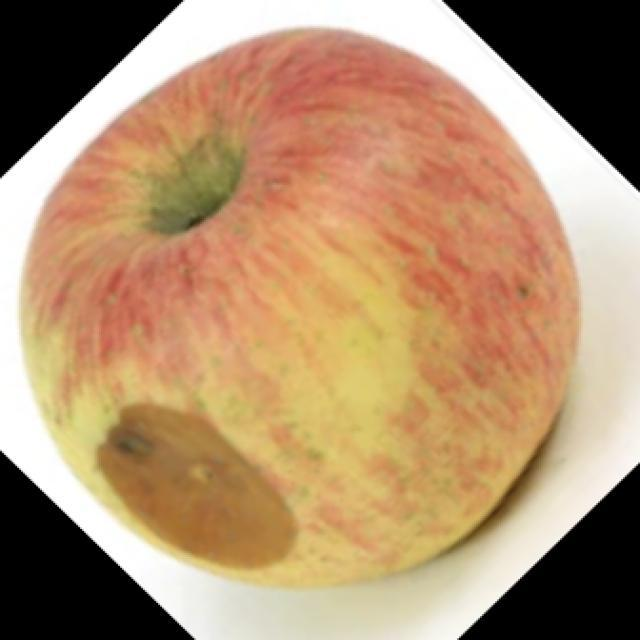Rotten: (49, 36, 558, 586)
